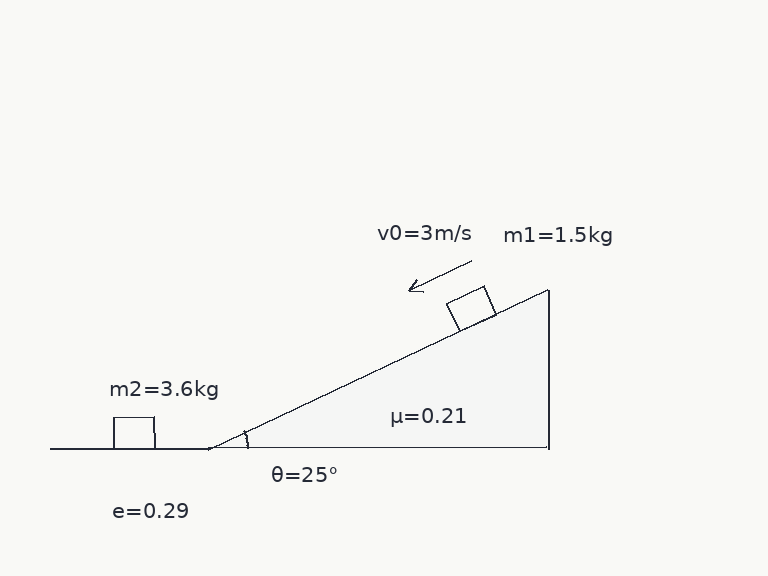block: (444, 284, 498, 333), (111, 415, 157, 450)
ramp: (206, 288, 549, 450)
